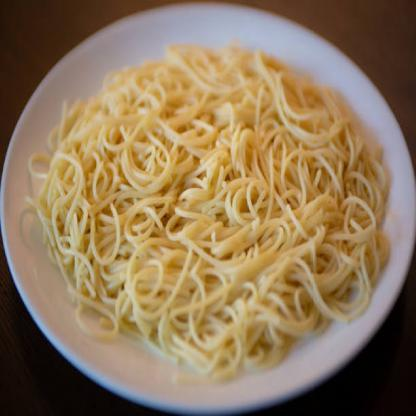Noodles: (23, 41, 392, 378)
